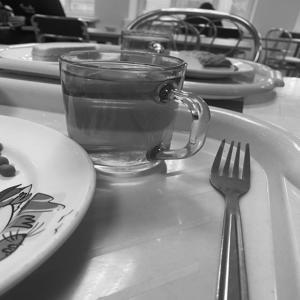tea: (49, 41, 217, 206)
